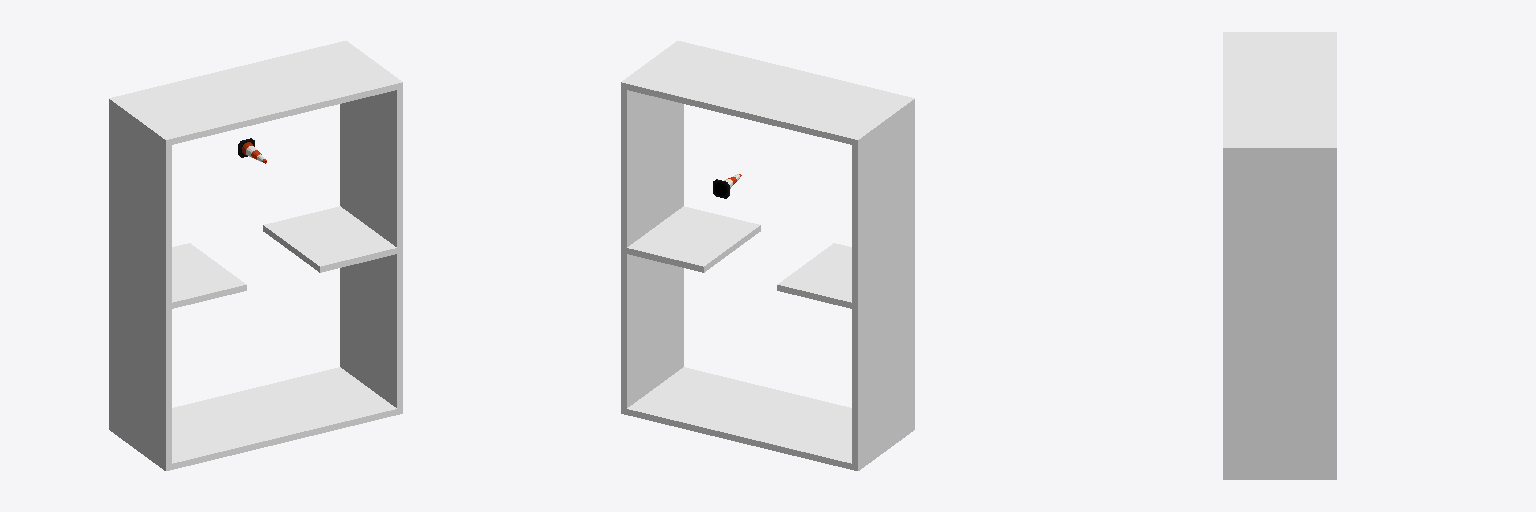
The picture shows the model from 3 angles: view 1: azimuth 30°, elevation 25°; view 2: azimuth 150°, elevation 25°; view 3: azimuth 270°, elevation 25°; orthographic projection.
Parts seen in each view (by area): view 1: Wall4, Wall3, Wall1, Wall2, Wall6, Wall5; view 2: Wall4, Wall3, Wall1, Wall2, Wall6, Wall5; view 3: Wall3, Wall1.
Boxes of the visible parts, box(x1,y1,x2,y2) form: Wall4: box(109, 98, 171, 464); Wall3: box(340, 41, 402, 411); Wall1: box(109, 42, 402, 145); Wall2: box(109, 367, 402, 470); Wall6: box(263, 206, 396, 272); Wall5: box(172, 243, 246, 308); Wall4: box(852, 98, 914, 468); Wall3: box(621, 41, 683, 408); Wall1: box(621, 42, 914, 145); Wall2: box(621, 367, 914, 470); Wall6: box(627, 206, 760, 272); Wall5: box(777, 243, 851, 308); Wall3: box(1223, 145, 1336, 479); Wall1: box(1223, 34, 1336, 147).
Size of the model in its own units: 6 by 8 by 2.5.
Materials: 3 (1 with a texture image).